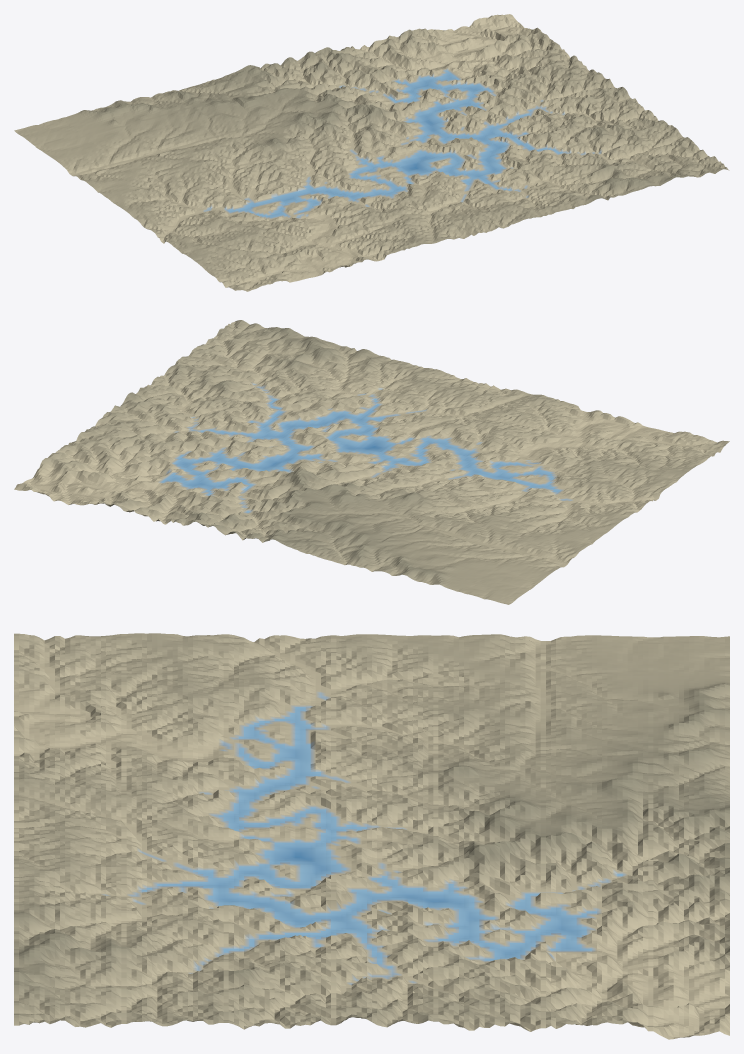
File: beaver_lake_ar.glb
3 views of the same model, one above another, from view 1: azimuth 30°, elevation 25°; view 2: azimuth 150°, elevation 25°; view 3: azimuth 270°, elevation 25° (orthographic). The views are drawn at different scales.
Visible parts, largest first — view 1: terrain, water; view 2: terrain, water; view 3: terrain, water.
Part boxes in pixels (x1,y1,x2,y2): terrain: [14, 14, 729, 291]; water: [228, 70, 562, 217]; terrain: [14, 320, 729, 604]; water: [161, 398, 560, 512]; terrain: [14, 633, 729, 1039]; water: [142, 707, 622, 968].
Bounding box in the file's own units: 28390 × 964 × 21976.
